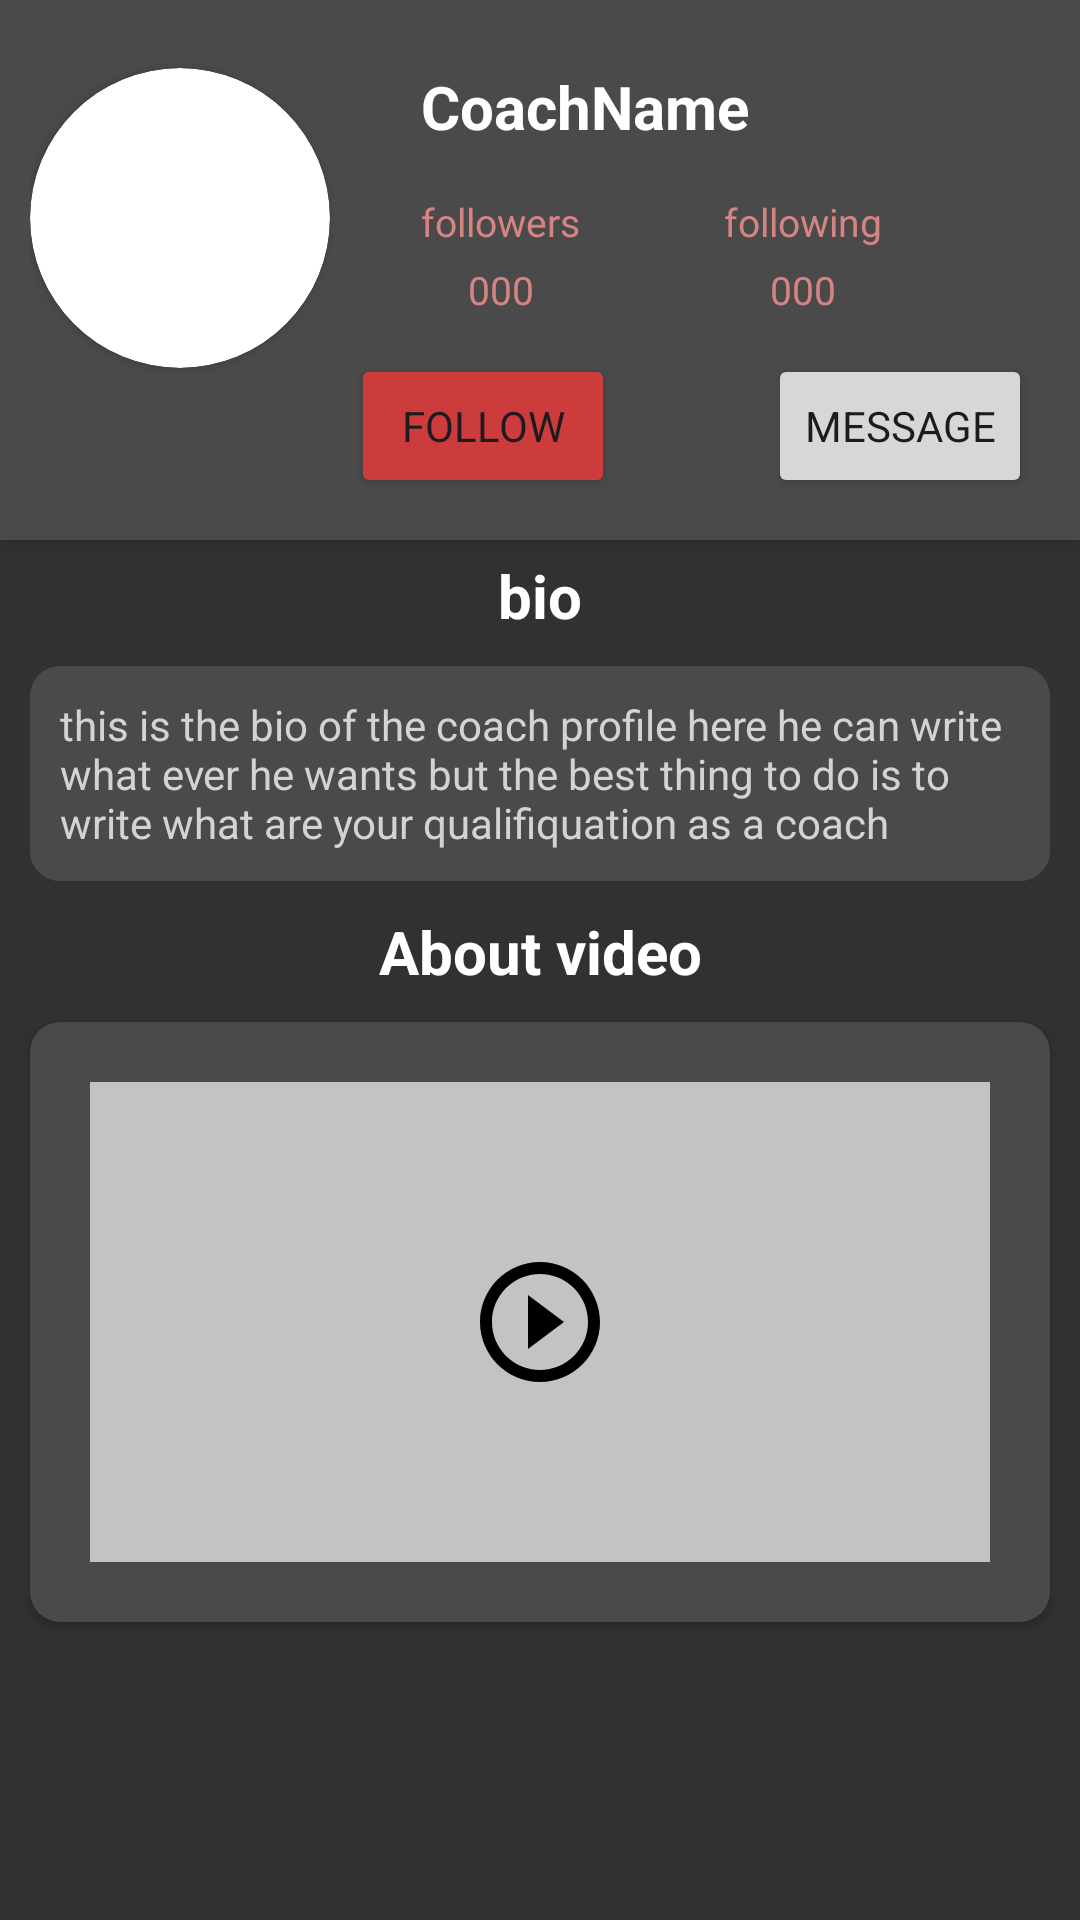

Screen size 1080 x 1920. Icon name, then its center in pixels as (x,y):
play circle: (540,1322)
